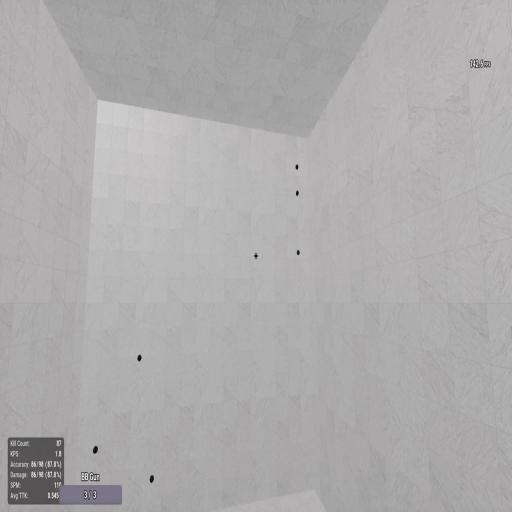Crosshair: (254, 253, 258, 260)
Target: (148, 472, 155, 484), (93, 445, 98, 455), (137, 354, 142, 362), (296, 249, 300, 257), (295, 163, 299, 170), (295, 189, 299, 196)
